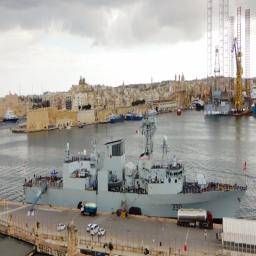Fragata: (23, 105, 250, 231)
